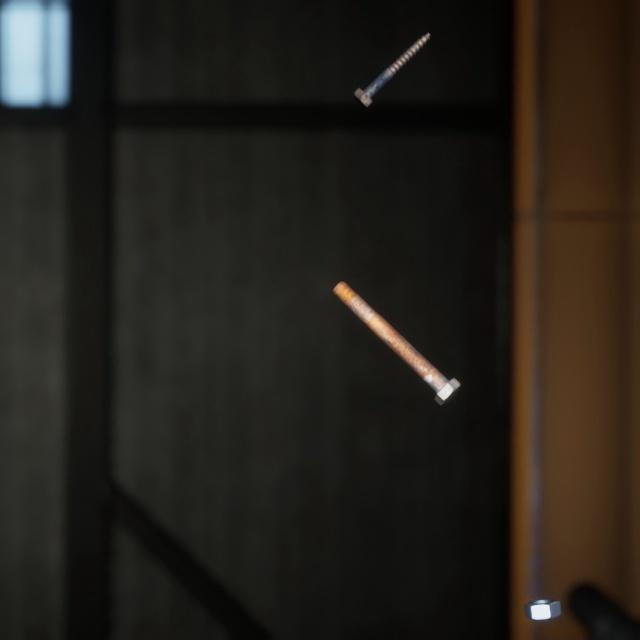bolt: (328, 259, 465, 392), (348, 19, 435, 104)
nut: (519, 570, 565, 601)
